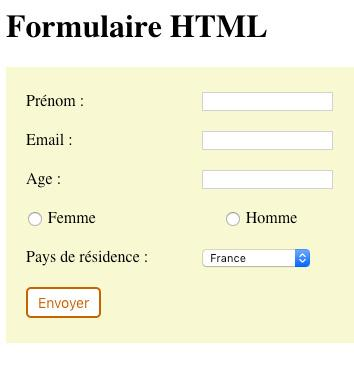button: (25, 286, 105, 319)
field: (199, 129, 336, 150), (199, 91, 334, 112), (200, 169, 335, 190), (201, 247, 312, 269)
field_with_label: (25, 244, 313, 271), (25, 89, 336, 114), (26, 127, 339, 151), (25, 168, 337, 191)
radio: (26, 210, 42, 226), (225, 210, 240, 227)
radio_with_label: (221, 208, 298, 229), (22, 208, 97, 228)
